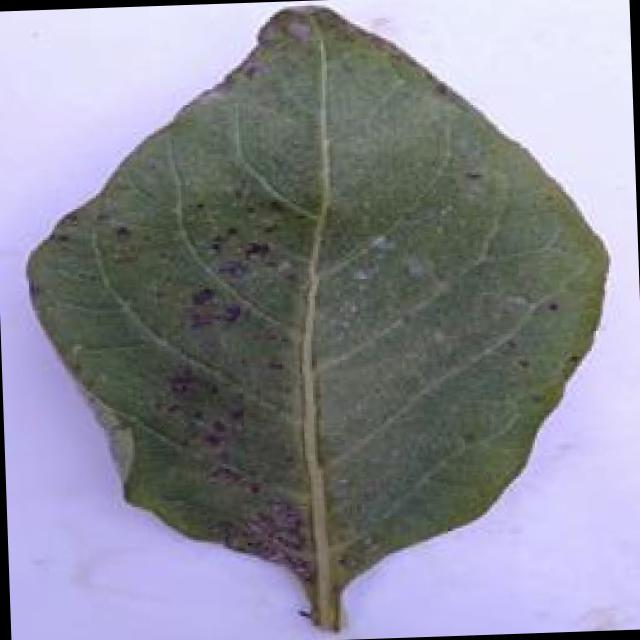Potato_Early_Blight: (17, 0, 622, 606)
